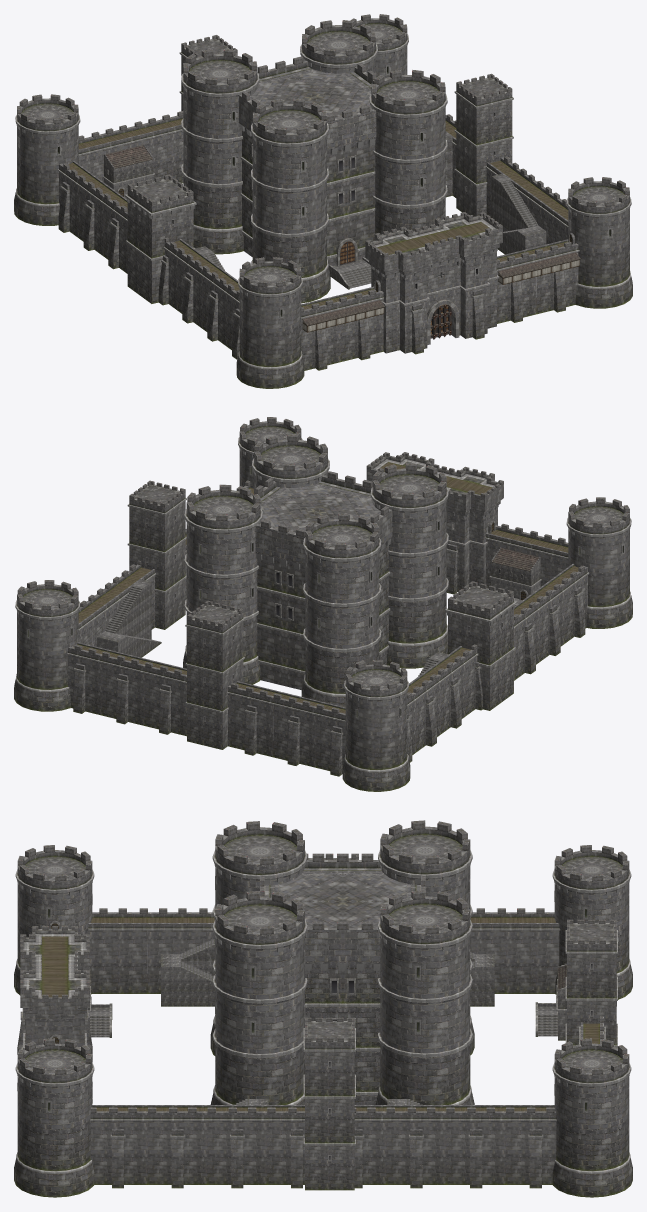
File: Castle.FBX
3 renders of one model, top to bottom at view 1: azimuth 30°, elevation 25°; view 2: azimuth 150°, elevation 25°; view 3: azimuth 270°, elevation 25°, orthographic. The views are drawn at different scales.
Parts seen in each view (by area): view 1: CastleBigColumn (×4), CastleWall (×18), CastleColumn (×4), CastleGate, CastleSquareColumn (×3), CastleBuilding, CastleWallStairs, CastleHouse02 (×2), CastleHouse, CastleBuildingStairs, CastleDoorShield; view 2: CastleBigColumn (×4), CastleWall (×18), CastleColumn (×4), CastleSquareColumn (×3), CastleBuilding, CastleGate, CastleWallStairs, CastleHouse; view 3: CastleBigColumn (×4), CastleWall (×12), CastleColumn (×4), CastleBuilding, CastleSquareColumn (×2), CastleGate, CastleWallStairs (×2), CastleHouseStairs (×2), CastleHouse.
Part boxes in pixels (x1,y1,x2,y2): CastleBigColumn (×4): (181, 20, 447, 303); CastleWall (×18): (57, 111, 579, 370); CastleColumn (×4): (14, 14, 632, 388); CastleGate: (365, 212, 502, 354); CastleSquareColumn (×3): (124, 35, 513, 303); CastleBuilding: (239, 56, 376, 266); CastleWallStairs: (491, 173, 546, 254); CastleHouse02 (×2): (302, 252, 580, 332); CastleHouse: (103, 144, 154, 194); CastleBuildingStairs: (329, 257, 371, 289); CastleDoorShield: (430, 304, 451, 339); CastleBigColumn (×4): (183, 434, 448, 707); CastleWall (×18): (67, 523, 589, 776); CastleColumn (×4): (14, 417, 632, 791); CastleSquareColumn (×3): (127, 480, 516, 749); CastleBuilding: (251, 471, 392, 690); CastleGate: (366, 452, 503, 594); CastleWallStairs: (97, 579, 161, 657); CastleHouse: (489, 547, 541, 598); CastleBigColumn (×4): (210, 820, 474, 1104); CastleWall (×12): (88, 908, 560, 1188); CastleColumn (×4): (14, 845, 632, 1197); CastleBuilding: (260, 853, 425, 1104); CastleSquareColumn (×2): (303, 919, 617, 1190); CastleGate: (17, 926, 92, 1103); CastleWallStairs (×2): (161, 939, 494, 1006); CastleHouseStairs (×2): (90, 1002, 557, 1037); CastleHouse: (556, 963, 566, 1040).
Bounding box in the file's own units: 12085 × 5148 × 13851.
